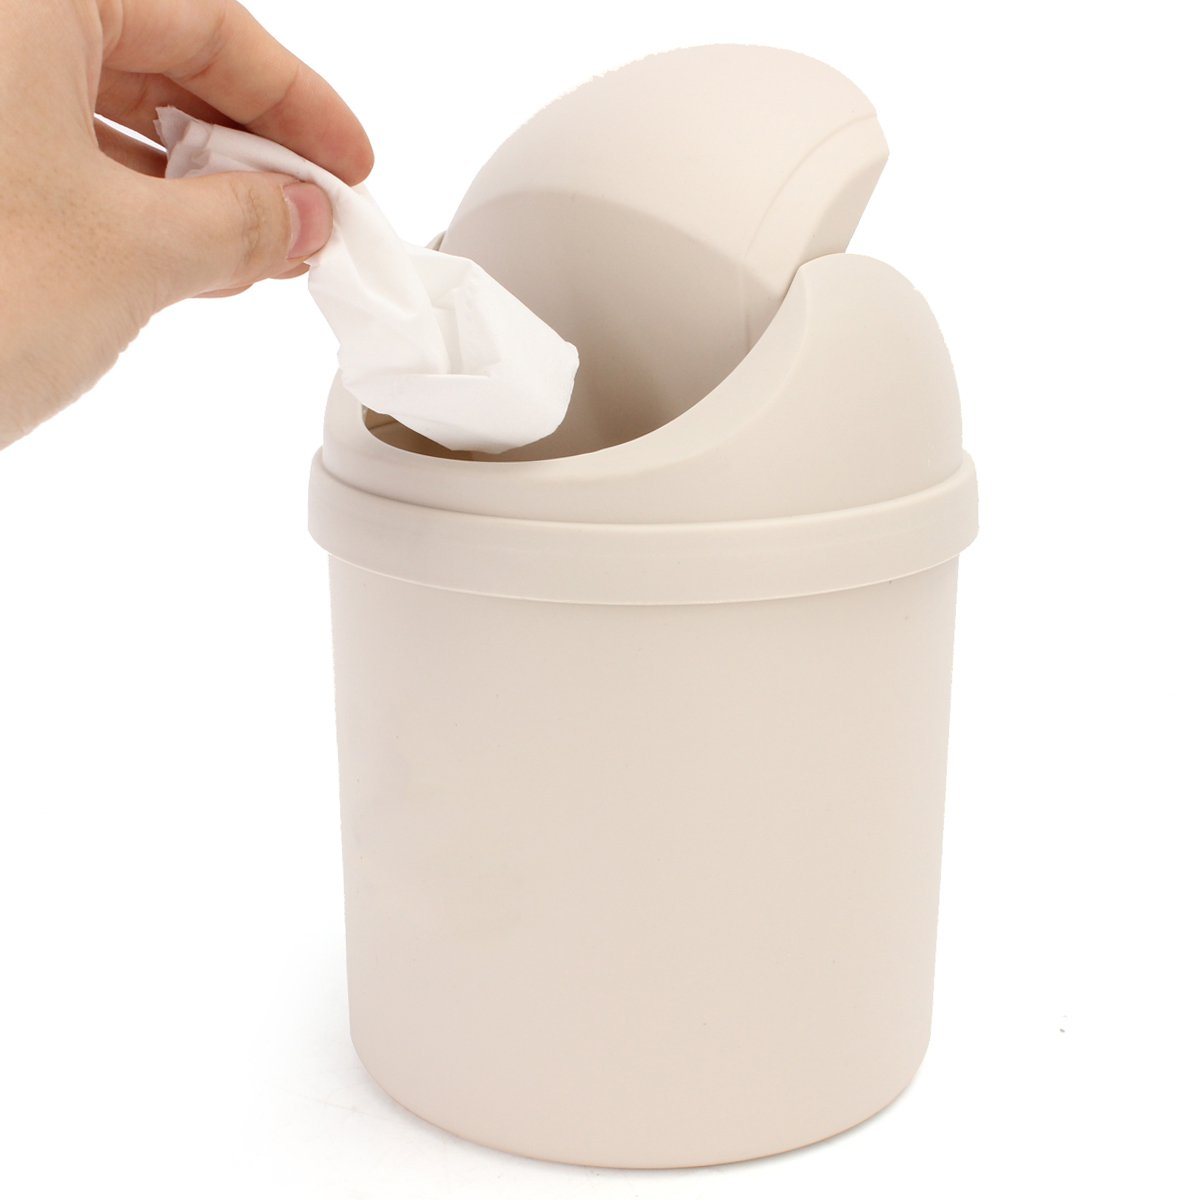Tissue: (320, 233, 595, 462)
